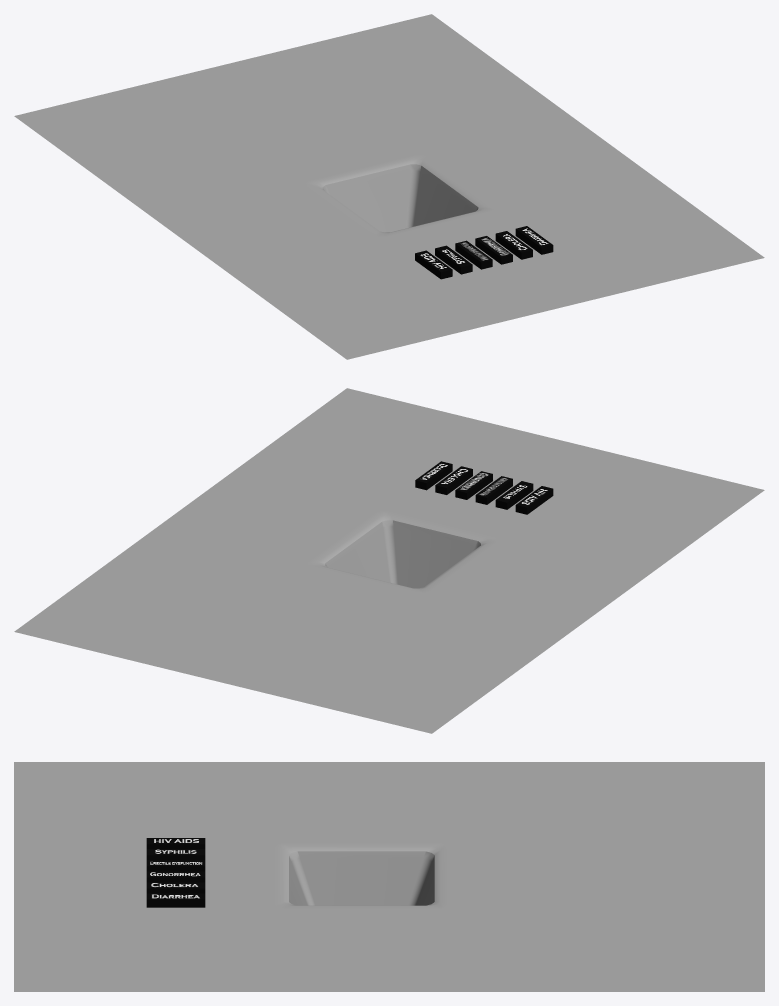
File: Level 11.fbx
The picture shows the model from 3 angles, top to bottom: view 1: azimuth 30°, elevation 25°; view 2: azimuth 150°, elevation 25°; view 3: azimuth 270°, elevation 25°; orthographic projection. The views are drawn at different scales.
Visible parts, largest first — view 1: Floor_hole, Diarrhea, Syphills, Gonorrhea, HIV_AIDS, Erectile_dysfunction, Cholera; view 2: Floor_hole, HIV_AIDS, Syphills, Erectile_dysfunction, Cholera, Diarrhea, Gonorrhea; view 3: Floor_hole, Diarrhea, Erectile_dysfunction, Gonorrhea, Cholera, HIV_AIDS, Syphills.
Part boxes in pixels (x1,y1,x2,y2): Floor_hole: (14, 14, 764, 359); Diarrhea: (515, 226, 553, 254); Syphills: (435, 245, 472, 274); Gonorrhea: (475, 236, 512, 264); HIV_AIDS: (415, 250, 452, 279); Erectile_dysfunction: (455, 240, 492, 269); Cholera: (495, 231, 532, 259); Floor_hole: (14, 388, 764, 733); HIV_AIDS: (515, 486, 553, 514); Syphills: (495, 481, 533, 509); Erectile_dysfunction: (475, 476, 512, 504); Cholera: (435, 466, 472, 494); Diarrhea: (415, 461, 452, 490); Gonorrhea: (455, 471, 492, 499); Floor_hole: (14, 762, 764, 991); Diarrhea: (146, 893, 205, 907); Erectile_dysfunction: (146, 860, 205, 871); Gonorrhea: (146, 871, 205, 882); Cholera: (146, 882, 205, 893); HIV_AIDS: (146, 838, 205, 848); Syphills: (146, 849, 205, 859).
Bounding box in the file's own units: 596 × 94.03 × 823.
Materials: 2 (1 with a texture image).
